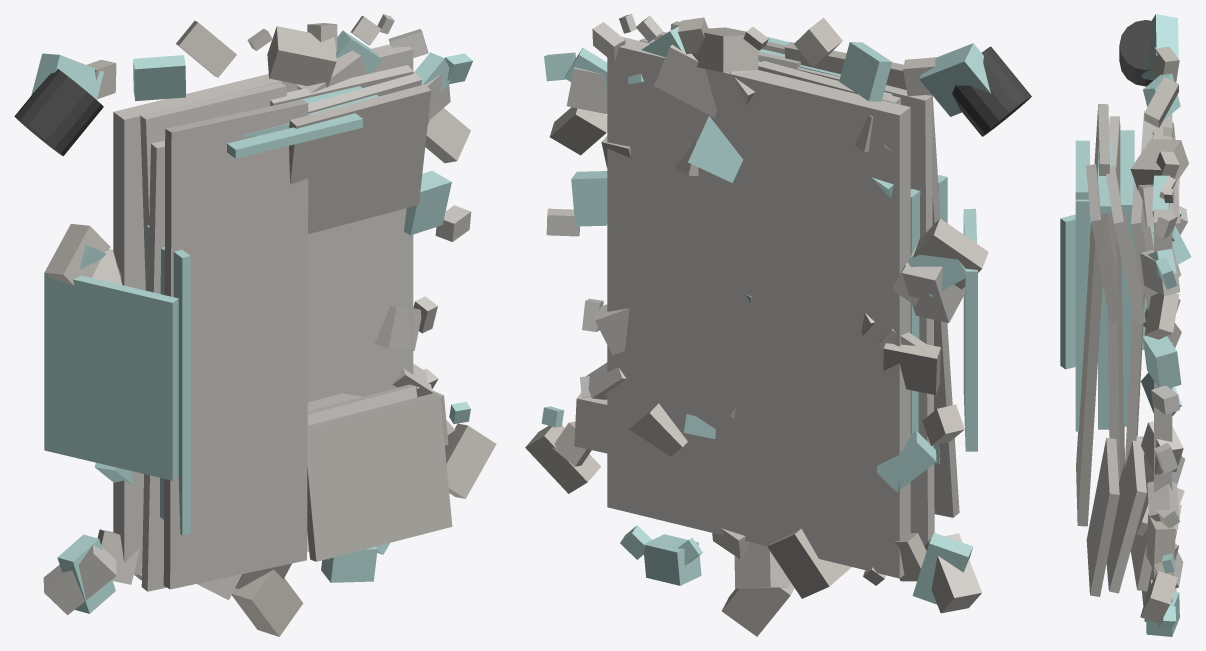
File: collapsed_pancake_rowhouse.glb
The picture shows the model from 3 angles, left to right: view 1: azimuth 30°, elevation 25°; view 2: azimuth 150°, elevation 25°; view 3: azimuth 270°, elevation 25°; orthographic projection. The views are drawn at different scales.
Visible parts, largest first — view 1: roof, concrete, teal, rubble, tank; view 2: concrete, rubble, teal, roof, tank; view 3: concrete, teal, roof, rubble, tank.
Boxes of the visible parts, x1,y1,x2,y2 form: roof: [163, 84, 452, 589]; concrete: [43, 14, 471, 615]; teal: [31, 30, 472, 613]; rubble: [44, 20, 496, 636]; tank: [14, 69, 103, 156]; concrete: [546, 14, 982, 613]; rubble: [525, 17, 988, 636]; teal: [541, 26, 991, 604]; roof: [670, 21, 959, 517]; tank: [952, 46, 1031, 136]; concrete: [1106, 111, 1187, 602]; teal: [1060, 14, 1191, 636]; roof: [1076, 104, 1120, 596]; rubble: [1130, 46, 1188, 623]; tank: [1119, 20, 1152, 86].
Size of the model in its own units: 11.31 by 14.2 by 3.23.
